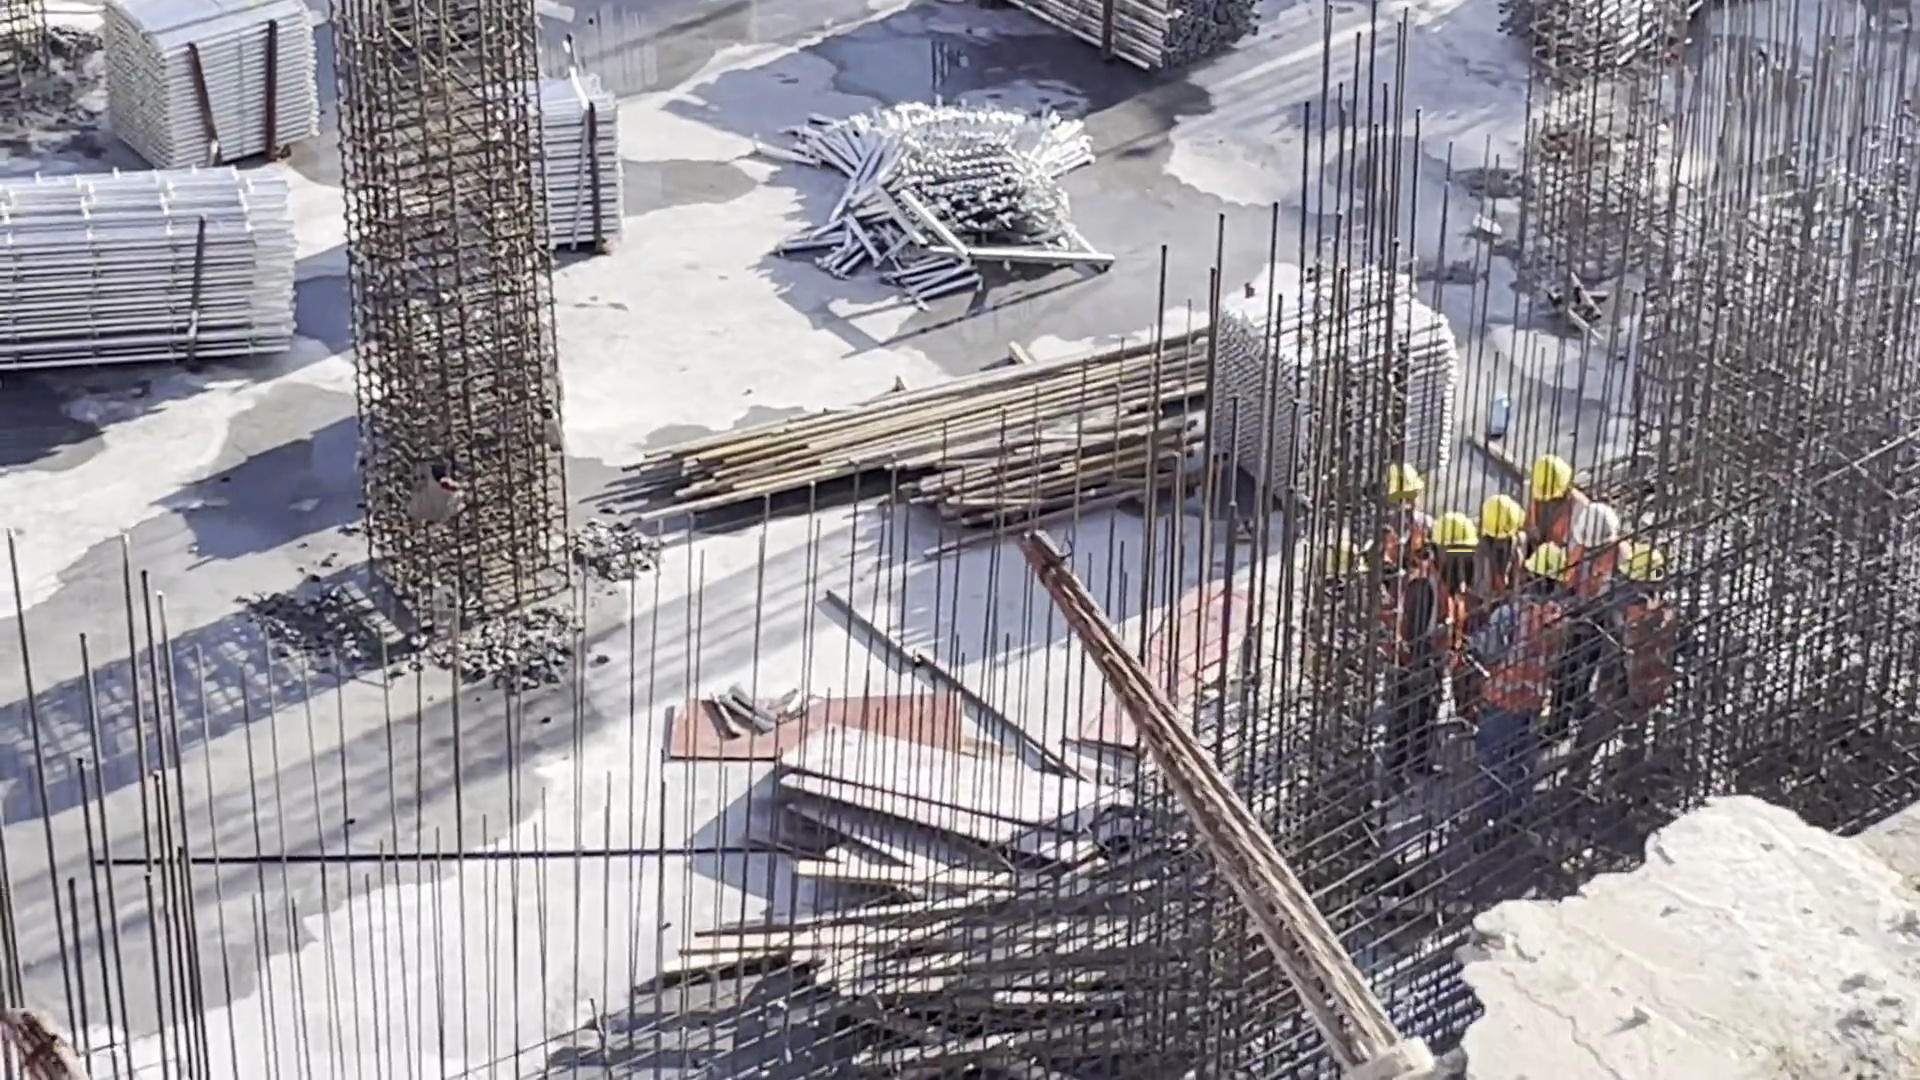helmet: (1527, 536, 1572, 581), (1526, 461, 1572, 503), (1624, 545, 1665, 586), (1480, 494, 1522, 533), (1574, 508, 1618, 545), (1440, 518, 1479, 552), (1379, 468, 1420, 499)
person: (1559, 540, 1669, 791), (1385, 511, 1479, 793), (1470, 543, 1567, 767), (1558, 497, 1627, 670), (1362, 465, 1432, 587), (1462, 490, 1528, 608), (1511, 448, 1584, 551)
vest: (1491, 602, 1570, 734), (1407, 566, 1469, 695), (1618, 610, 1684, 727), (1566, 551, 1607, 609)
